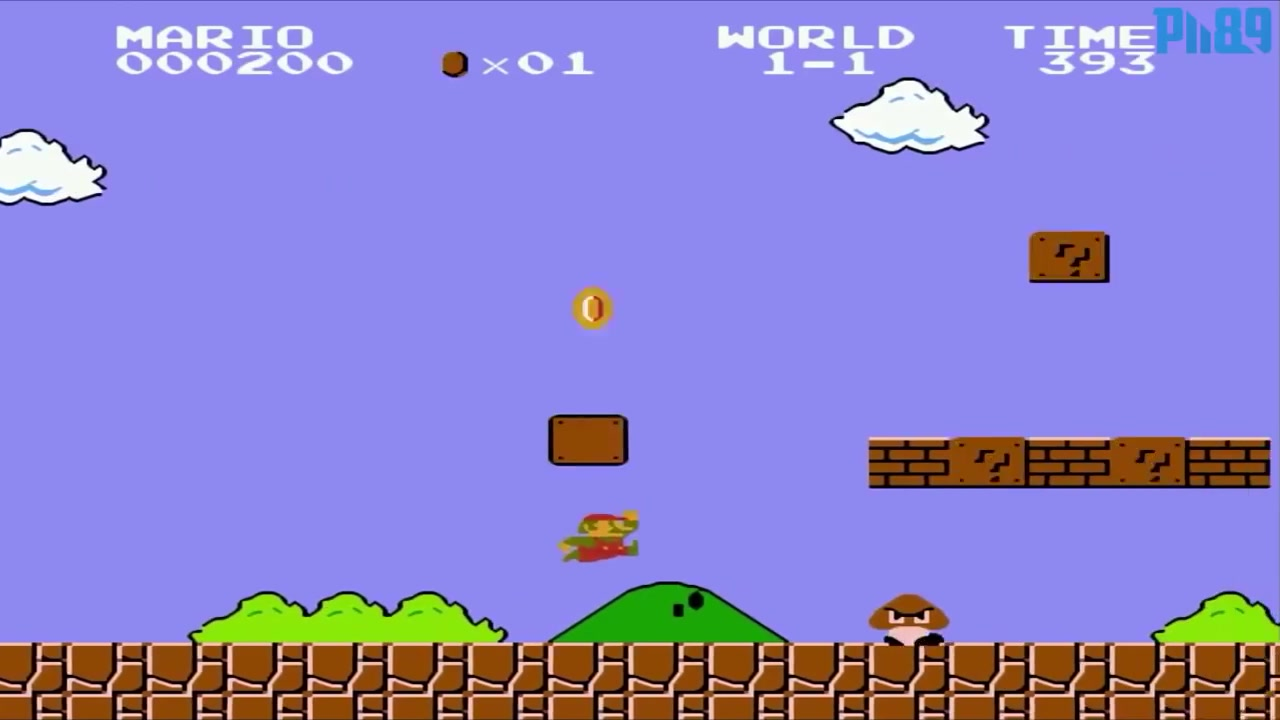mario: (553, 504, 645, 564)
